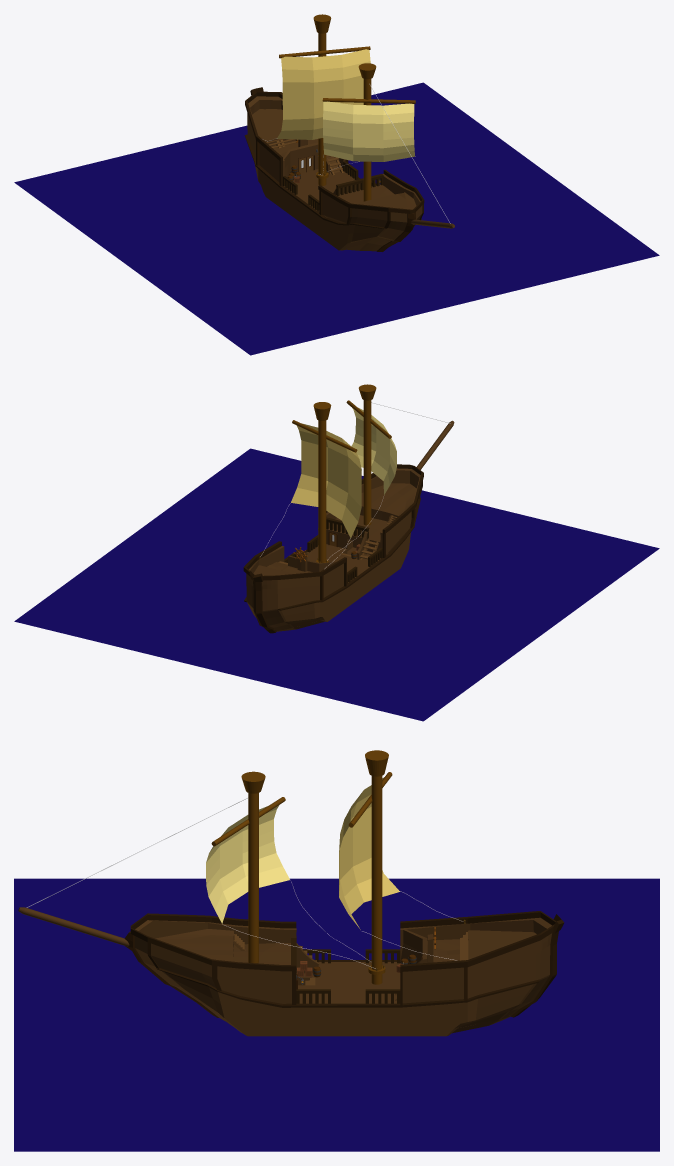
The model's file is Wood.fbx.
3 views of the same model, one above another, from view 1: azimuth 30°, elevation 25°; view 2: azimuth 150°, elevation 25°; view 3: azimuth 270°, elevation 25° (orthographic). The views are drawn at different scales.
Parts seen in each view (by area): view 1: Cylinder.011, Båt, Plane.001, Plane, Båt.002, Mast, Båt.004; view 2: Cylinder.011, Båt, Plane.001, Mast, Båt.002, Plane; view 3: Cylinder.011, Båt, Båt.002, Mast, Plane, Plane.001, Båt.004.
Boxes of the visible parts, x1,y1,x2,y2 form: Cylinder.011: [14, 82, 659, 355]; Båt: [247, 96, 454, 251]; Plane.001: [277, 49, 370, 139]; Plane: [323, 101, 414, 161]; Båt.002: [244, 87, 424, 251]; Mast: [279, 14, 415, 201]; Båt.004: [283, 161, 376, 211]; Cylinder.011: [14, 448, 659, 721]; Båt: [246, 420, 454, 631]; Plane.001: [291, 423, 361, 537]; Mast: [292, 384, 391, 563]; Båt.002: [243, 464, 423, 633]; Plane: [351, 407, 396, 494]; Cylinder.011: [14, 878, 659, 1151]; Båt: [18, 907, 551, 1036]; Båt.002: [124, 911, 564, 1017]; Mast: [211, 750, 392, 984]; Plane: [206, 805, 289, 923]; Plane.001: [339, 777, 399, 929]; Båt.004: [296, 949, 400, 1003].
Bounding box in the file's own units: 25490 × 12782 × 25490.
